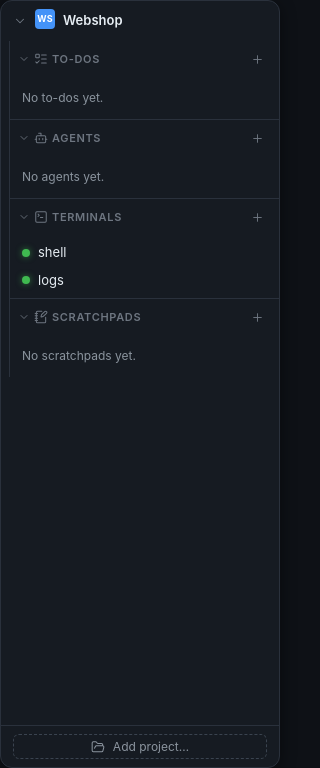
Scenario: Sidebar project header › collapses one subsection to its header with a row count
Click the button "Terminals": (106, 217) [18,209,195,225]
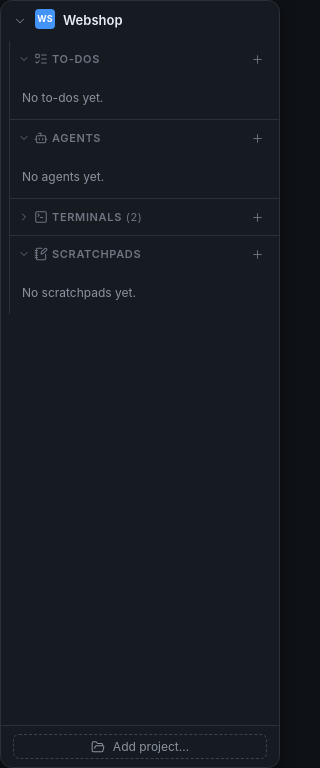
Check: the button "Terminals (2)" is collapsed
Check: the button "shell" is gone
Click the button "Terminals (2)": (106, 217) [18,209,195,225]
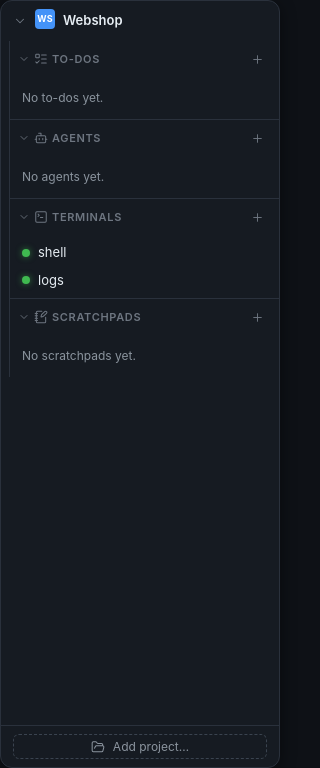
Check: the text "shell" is shown, box [38,244,66,260]
